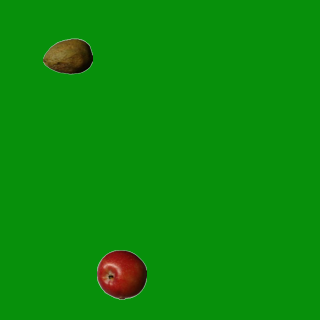Apple Braeburn: (96, 249, 146, 299)
Papaya: (42, 31, 92, 81)
